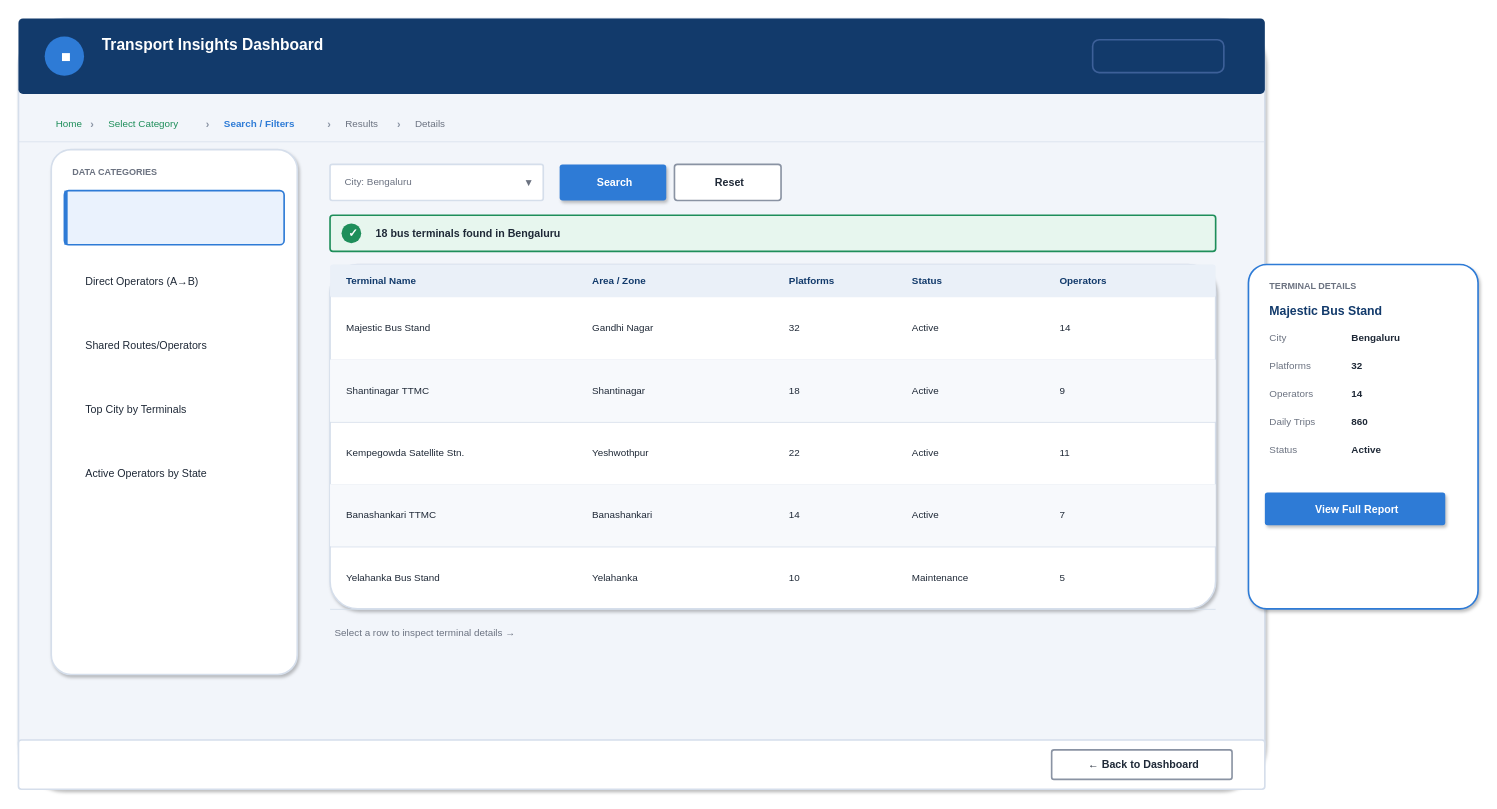
Image size: 1497x809. Some labels were removed from this diagram. The centre of each missing label's shape, as x and y in pixels:
Bus Terminals by City: the point at 174,217
⌂ Home: the point at 1157,56
